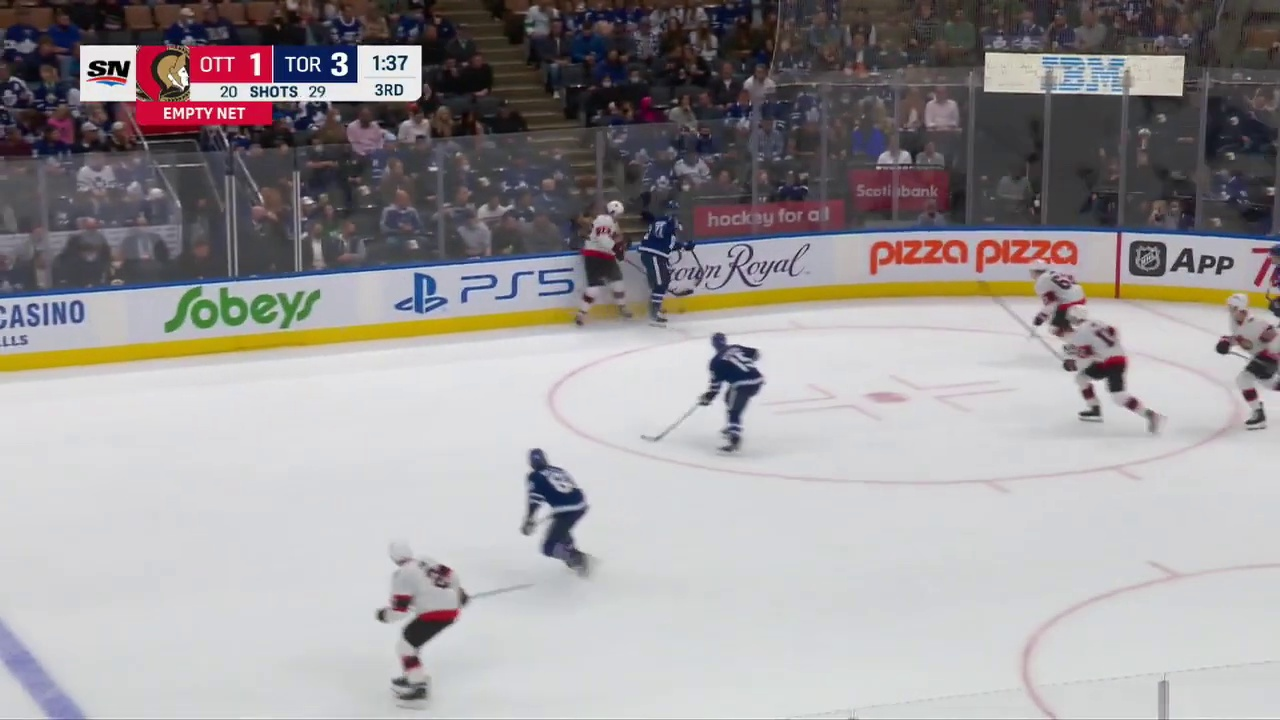hockeyplayer: (374, 538, 468, 710), (1062, 303, 1167, 437), (520, 447, 595, 578), (1216, 293, 1280, 431), (697, 333, 764, 455), (638, 200, 696, 328), (575, 200, 632, 327), (1026, 259, 1087, 343)
